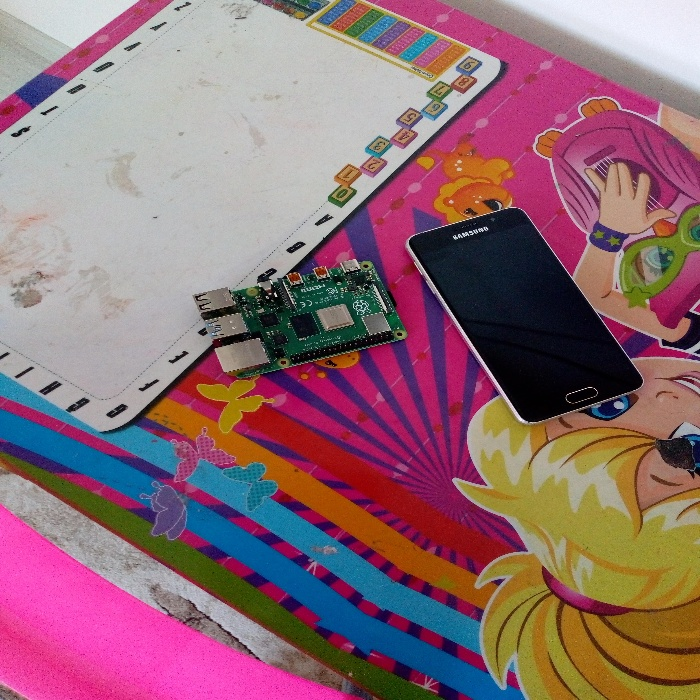raspberry: (168, 242, 405, 385)
